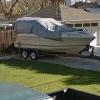Boat: (13, 9, 99, 63)
